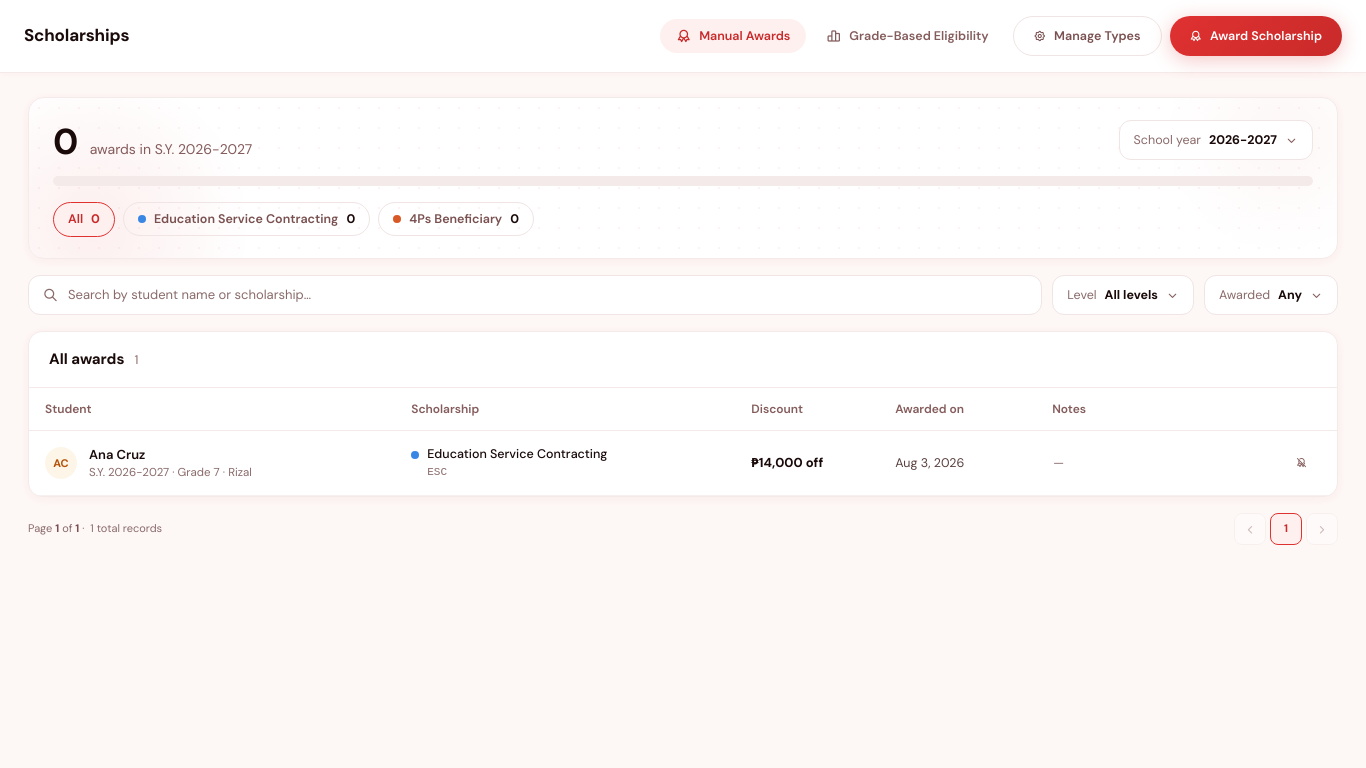
Test case: Scholarship awards — band › filters by scholarship from the legend, without recounting the band
Expected: the text "Ana Cruz" is shown, [89,446,145,462]
Click the button with aria-label "Education Service Contracting 35". click: (247, 219)
box: [123,202,370,236]
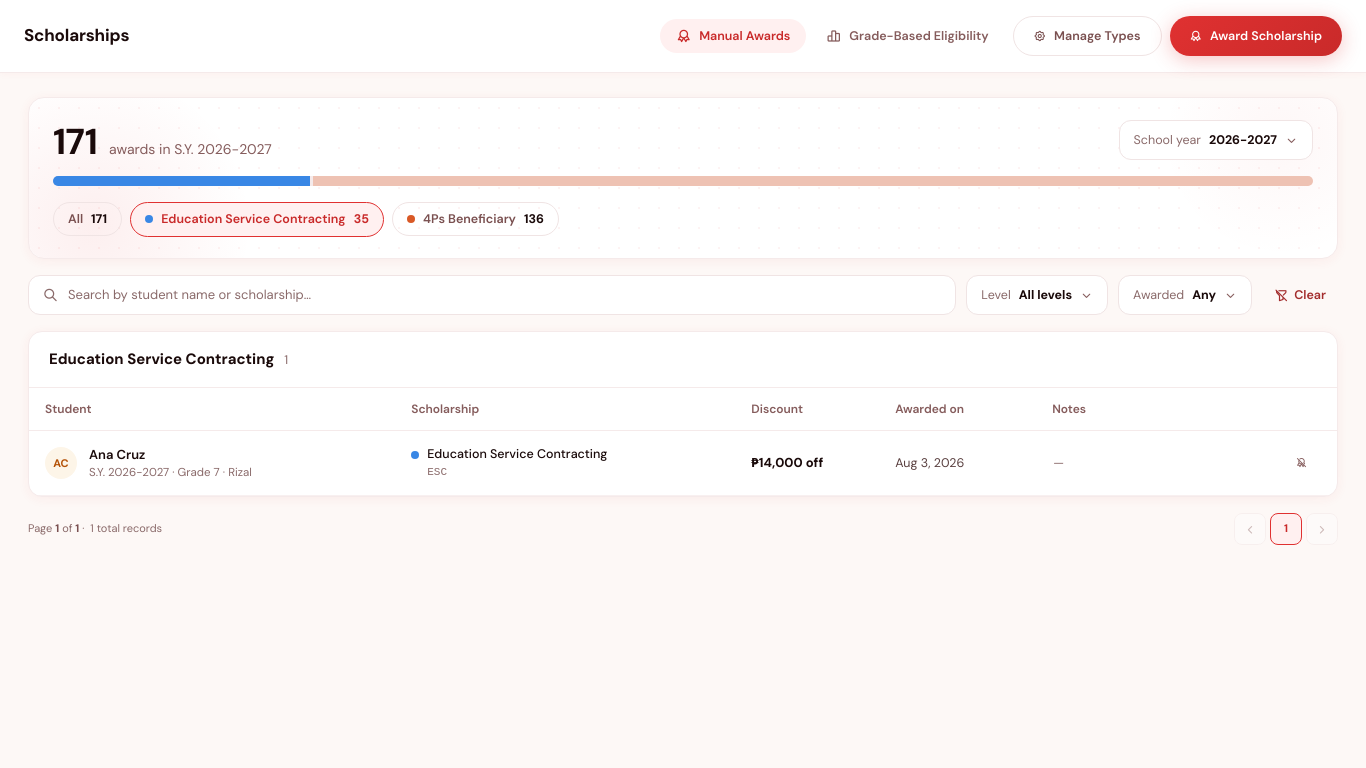
Now the heading "Education Service Contracting" is shown, box [49,348,274,370]
